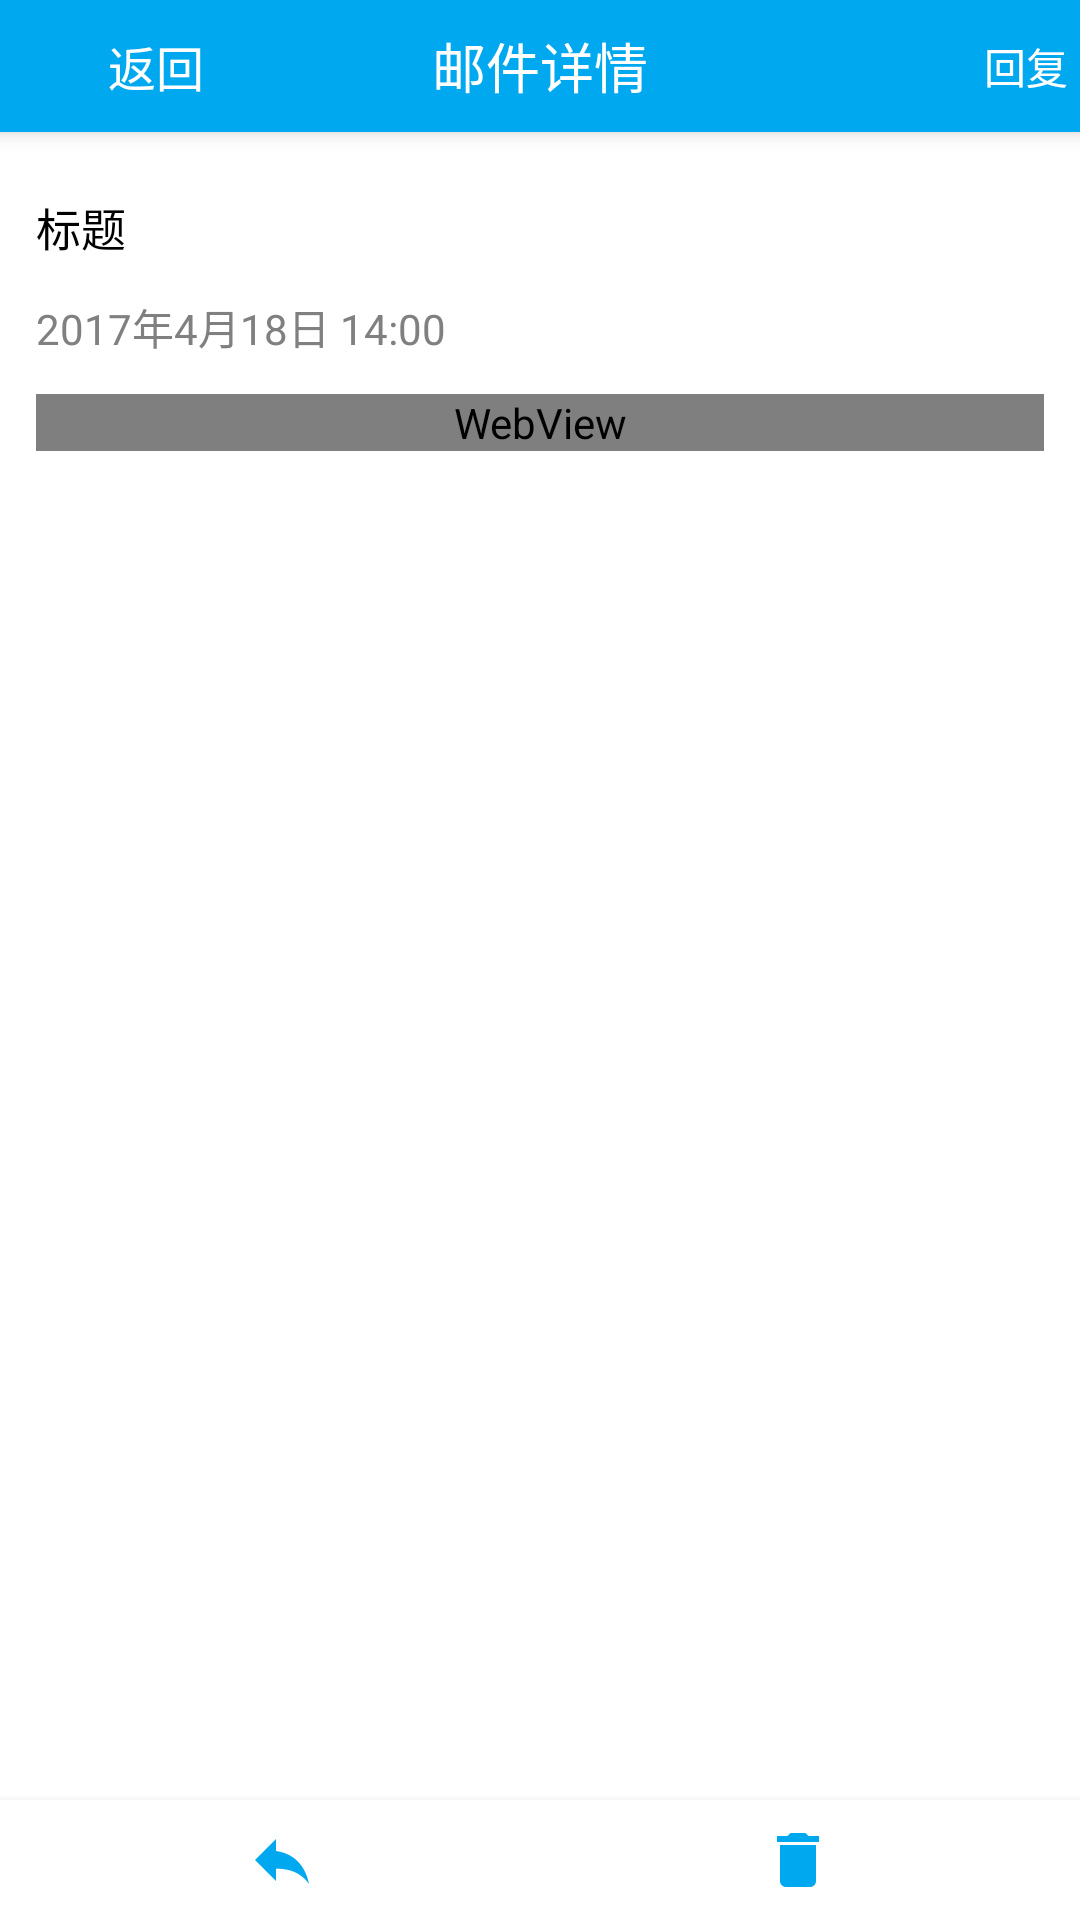

Icons on this 1080*1920 Android screen, each with its box as (x1, y1, x2, y2):
delete: (777, 1833, 819, 1887)
reply: (255, 1839, 309, 1884)
